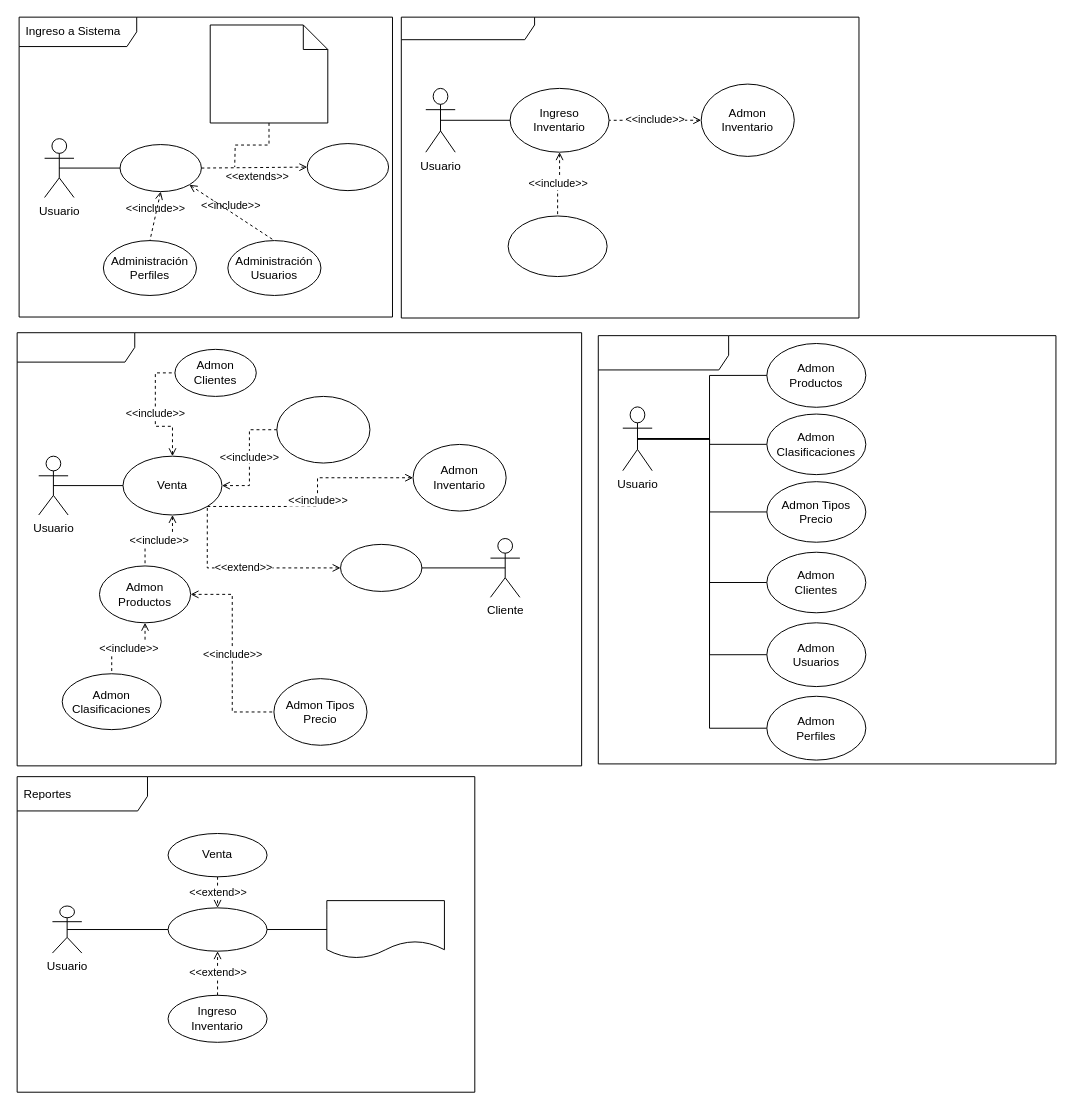
Some shapes in this 1073 by 1109 pixel diagram are drawn without their labels. The box of each missing label's shape, as (x1, y1, x2, y2) in pixels:
Administración Catálogos: (597, 335, 1056, 764)
Admon Proveedores: (507, 215, 607, 277)
Admon Tipo Cobro (opt): (276, 395, 370, 463)
Compra a Proveedor: (400, 16, 859, 318)
Comprobante Cliente: (340, 543, 422, 591)
Dashboard: (306, 143, 389, 191)
El dashboard y las opciones dependerán de los permisos otorgados al usuario.: (209, 24, 328, 123)
Gestión Reportes: (167, 907, 267, 951)
Login: (119, 144, 201, 192)
Reporte tipo PDF: (326, 900, 444, 958)
Venta a Cliente: (16, 332, 582, 766)
